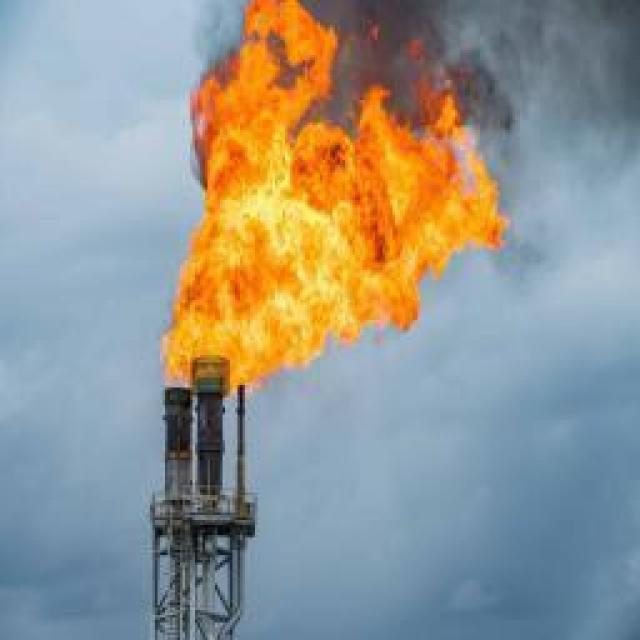fire: (158, 0, 510, 394)
smoke: (288, 0, 639, 271), (191, 0, 247, 71)
